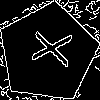X: (22, 28, 72, 68)
